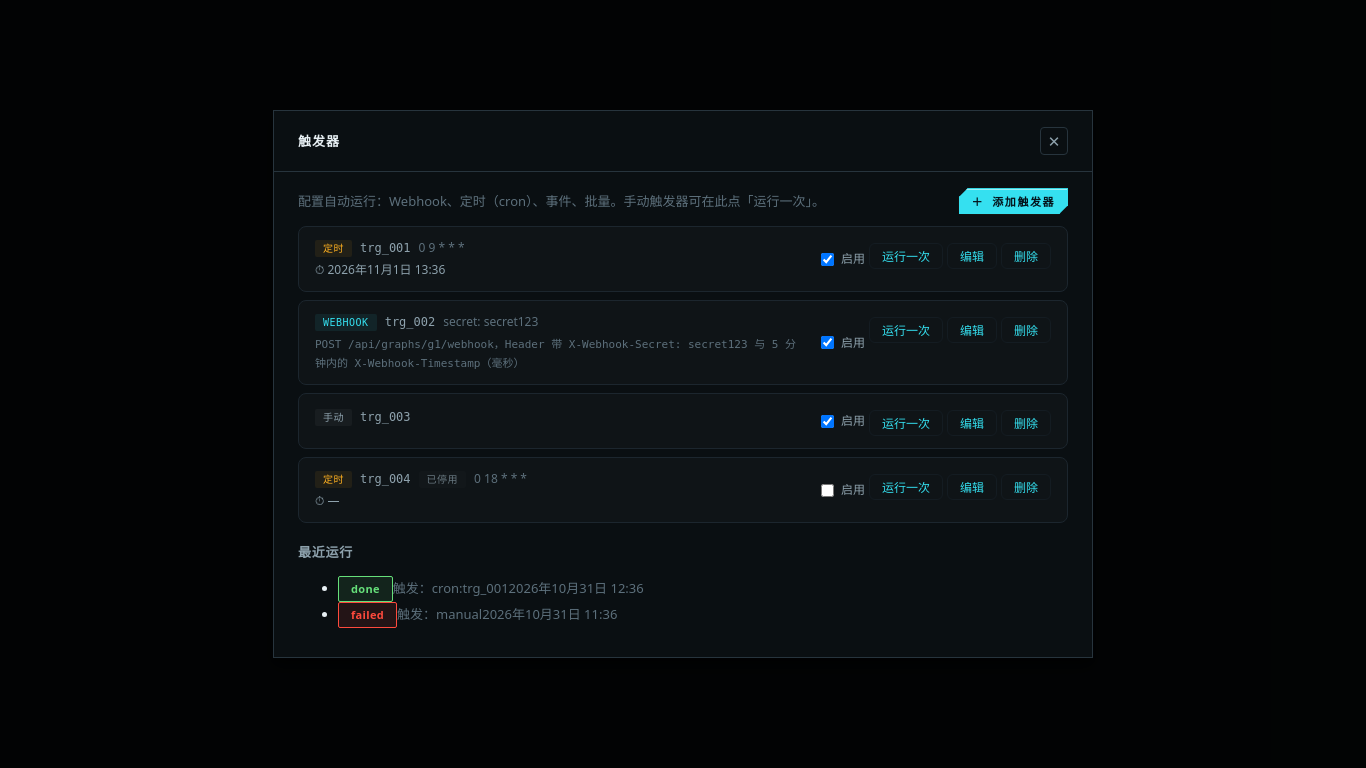
Test case: TriggersPanel › 触发器操作 › crypto.randomUUID 不可用（非 secure context，如局域网 http）时仍能新建
Click the button "＋ 添加触发器" at (1013, 201), box [959,188,1068,214]
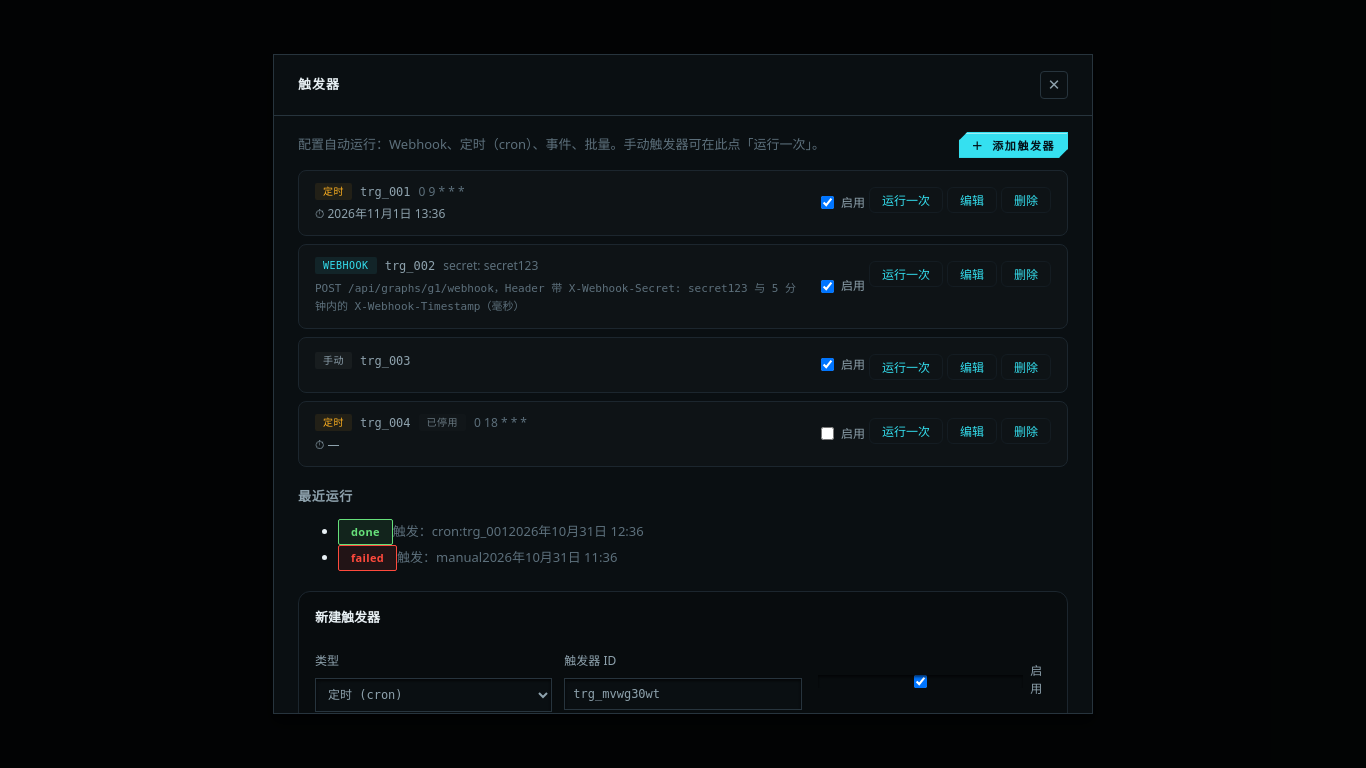
Result: the heading "新建触发器" is shown at [315,608,380,626]
Result: the field showing "trg_" is shown at [564,678,802,710]
